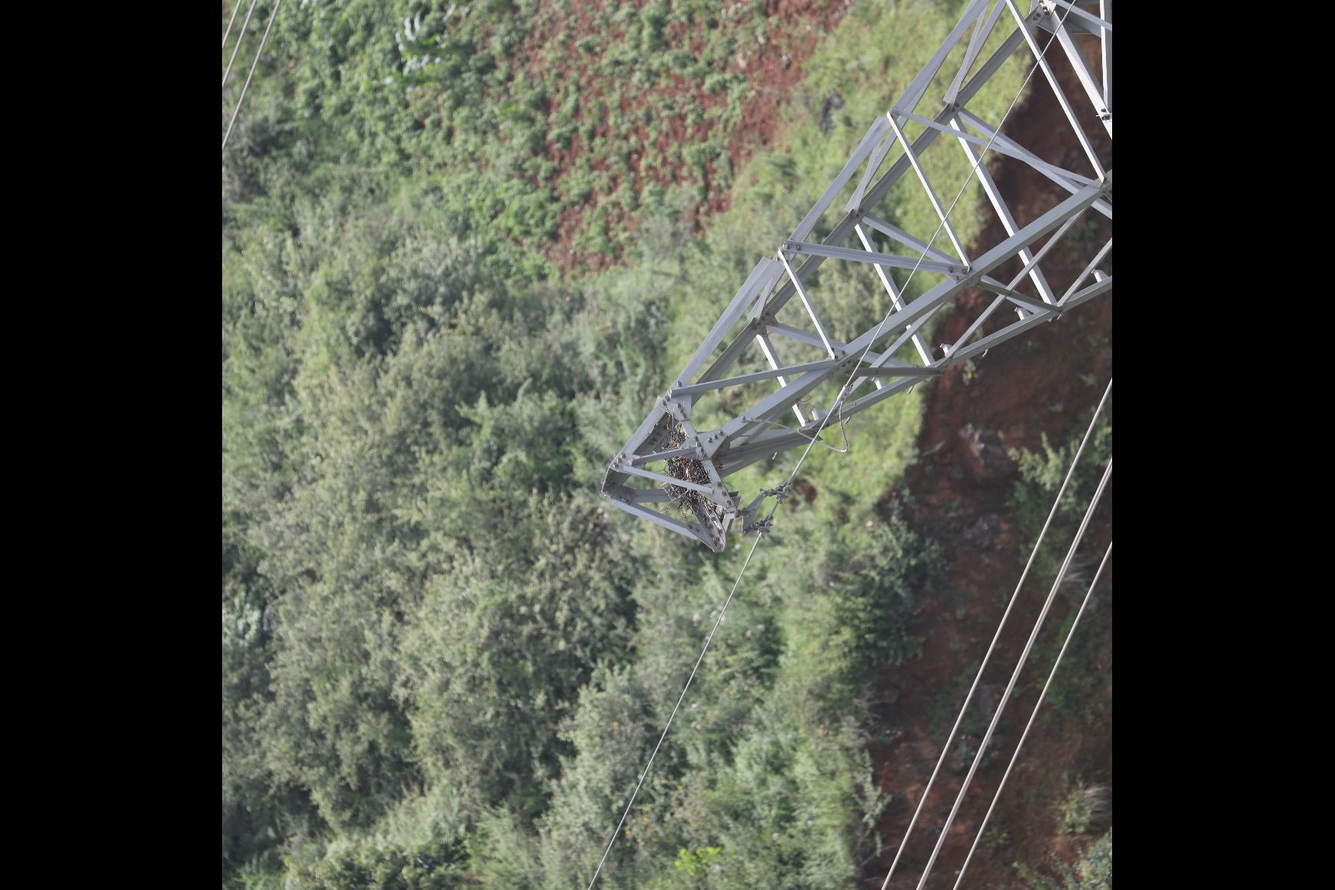nest: (659, 430, 710, 511)
